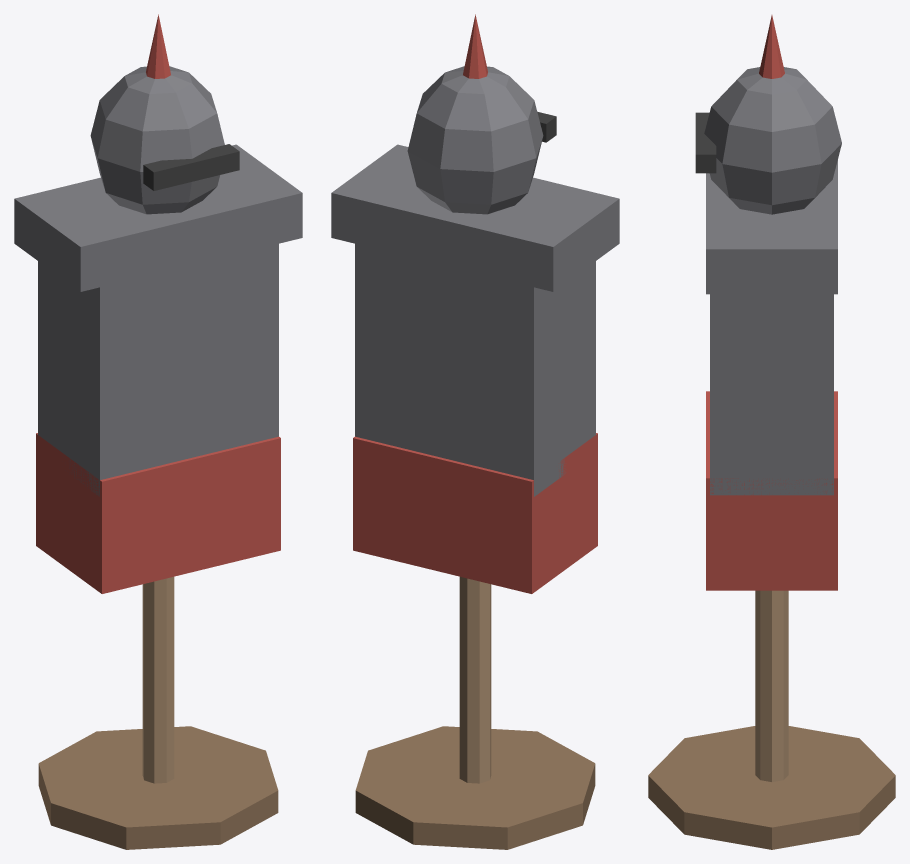
The model's file is armor_stand.glb.
3 views of the same model, side by side, from view 1: azimuth 30°, elevation 25°; view 2: azimuth 150°, elevation 25°; view 3: azimuth 270°, elevation 25° (orthographic).
Parts seen in each view (by area): view 1: armor_stand; view 2: armor_stand; view 3: armor_stand.
Boxes of the visible parts, box(x1,y1,x2,y2) form: armor_stand: box(14, 14, 302, 849); armor_stand: box(331, 14, 619, 849); armor_stand: box(648, 15, 895, 849).
Bounding box in the file's own units: 0.62 × 2.1 × 0.6.
